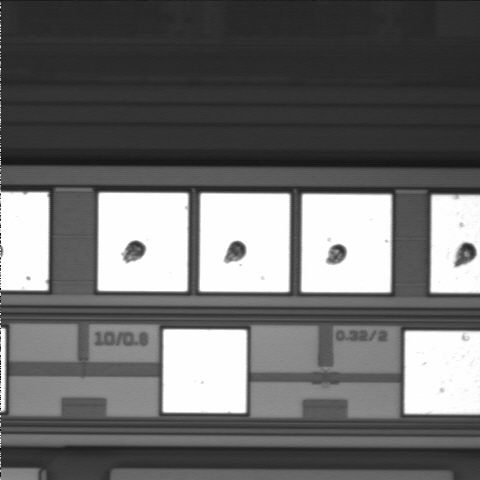pad: (200, 193, 290, 292), (98, 193, 188, 291), (301, 194, 391, 292), (163, 329, 247, 413)
